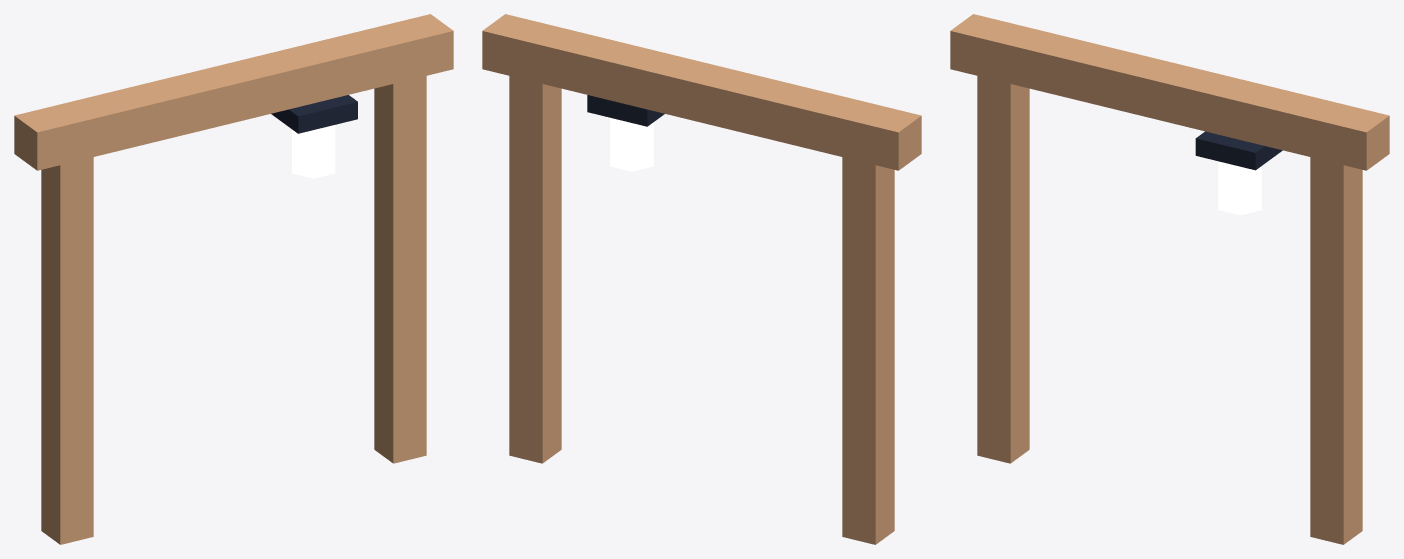
The model's file is timber.glb.
The picture shows the model from 3 angles, left to right: view 1: azimuth 30°, elevation 25°; view 2: azimuth 150°, elevation 25°; view 3: azimuth 330°, elevation 25°; orthographic projection.
Parts seen in each view (by area): view 1: Timber, Lamp, Bracket; view 2: Timber, Lamp, Bracket; view 3: Timber, Lamp, Bracket.
Part boxes in pixels (box(x1,y1,x2,y2)): Timber: box(14, 14, 453, 544); Lamp: box(292, 125, 335, 178); Bracket: box(271, 95, 357, 133); Timber: box(482, 14, 921, 544); Lamp: box(610, 118, 653, 171); Bracket: box(587, 95, 664, 126); Timber: box(950, 14, 1389, 544); Lamp: box(1218, 161, 1261, 215); Bracket: box(1195, 131, 1282, 170).
Size of the model in its own units: 2.5 by 2.41 by 0.32.
